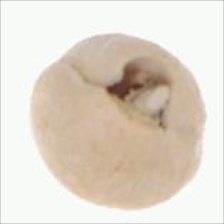L3: (99, 52, 178, 133)
L4: (30, 34, 204, 210)
